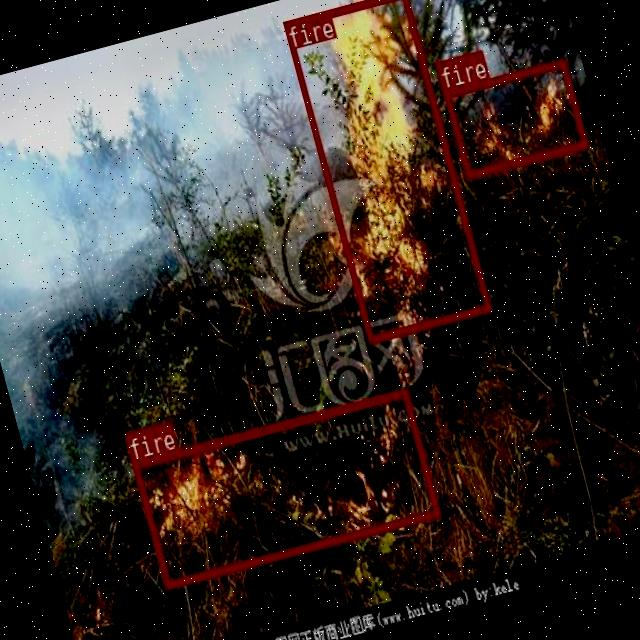fire: (281, 0, 490, 342), (131, 387, 439, 588), (442, 56, 586, 178)
